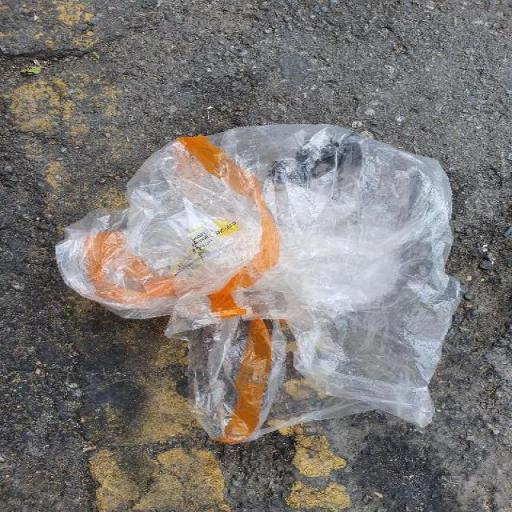plastic-bag: (46, 120, 472, 446)
